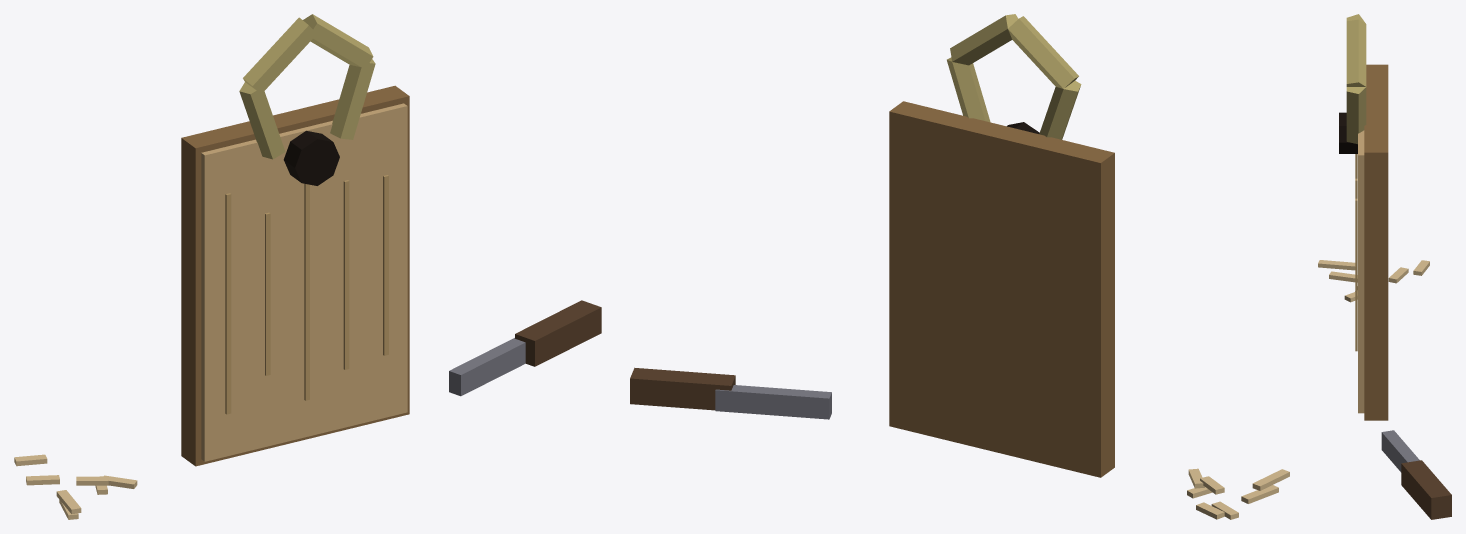
The model's file is prop_closeup_blank_tag.glb.
3 views of the same model, side by side, from view 1: azimuth 30°, elevation 25°; view 2: azimuth 150°, elevation 25°; view 3: azimuth 270°, elevation 25° (orthographic). The views are drawn at different scales.
Visible parts, largest first — view 1: prop_closeup_blank_tag; view 2: prop_closeup_blank_tag; view 3: prop_closeup_blank_tag.
Part boxes in pixels (box(x1,y1,x2,y2)): prop_closeup_blank_tag: box(14, 14, 601, 519); prop_closeup_blank_tag: box(630, 14, 1289, 519); prop_closeup_blank_tag: box(1318, 14, 1451, 519).
Bounding box in the file's own units: 0.5296 × 0.3664 × 0.1222.
